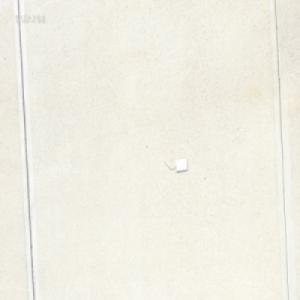LuggageTag: (162, 155, 188, 172)
